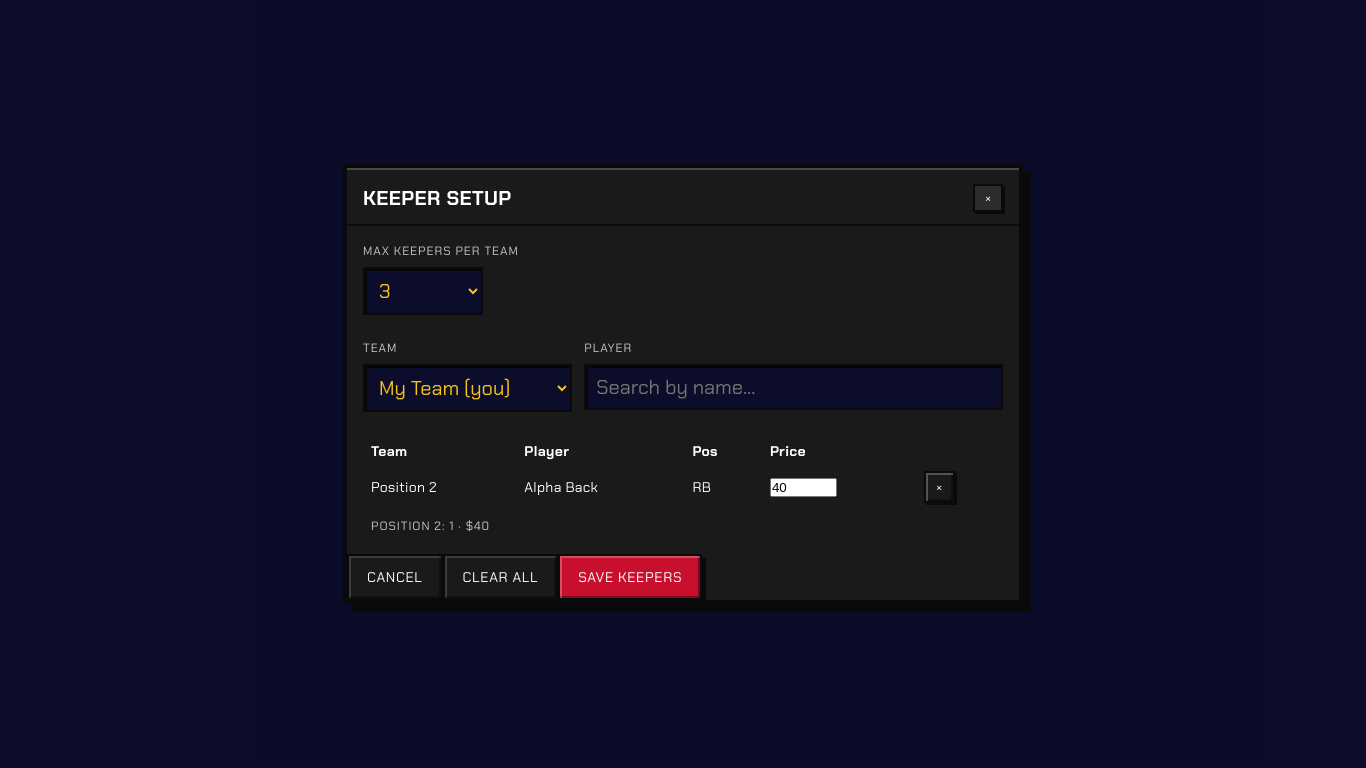
Test case: KeeperModal › removes a keeper from the staged list
Step 1. Click the button named "remove keeper alpha back" → {"x": 940, "y": 487}, box [924,471,955,503]
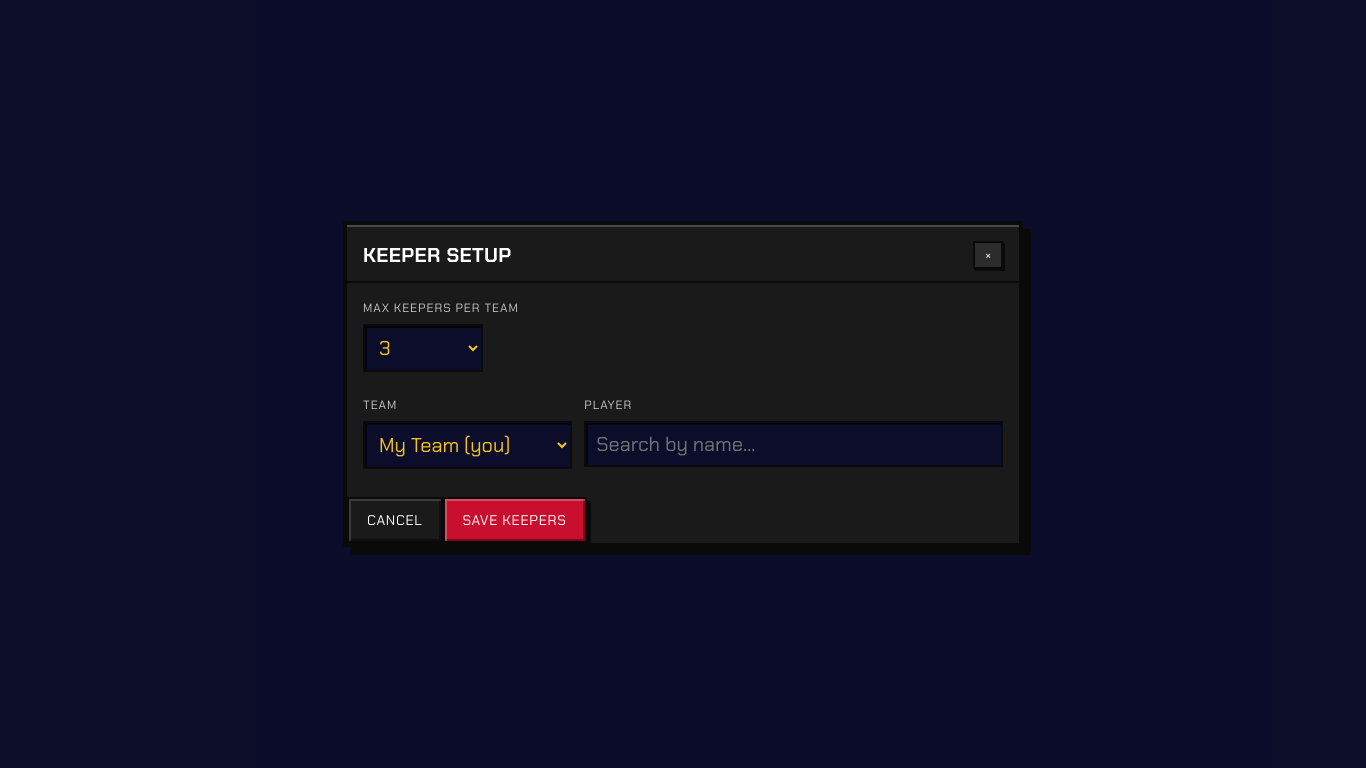
Expected: the text "Alpha Back" is gone
